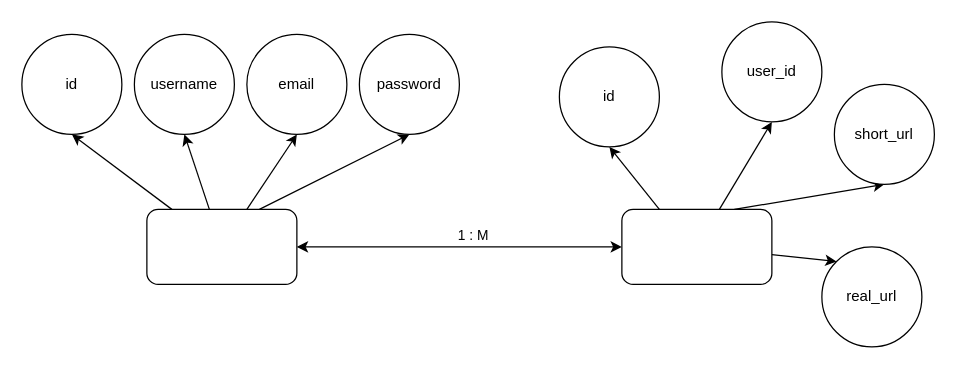
This 956x369 diagram has some shape labels left out. Here are the shapes that lost their labels. From the top down, the centre of each, then its label:
At (x=221, y=246): "Users".
At (x=696, y=246): "Urls".
